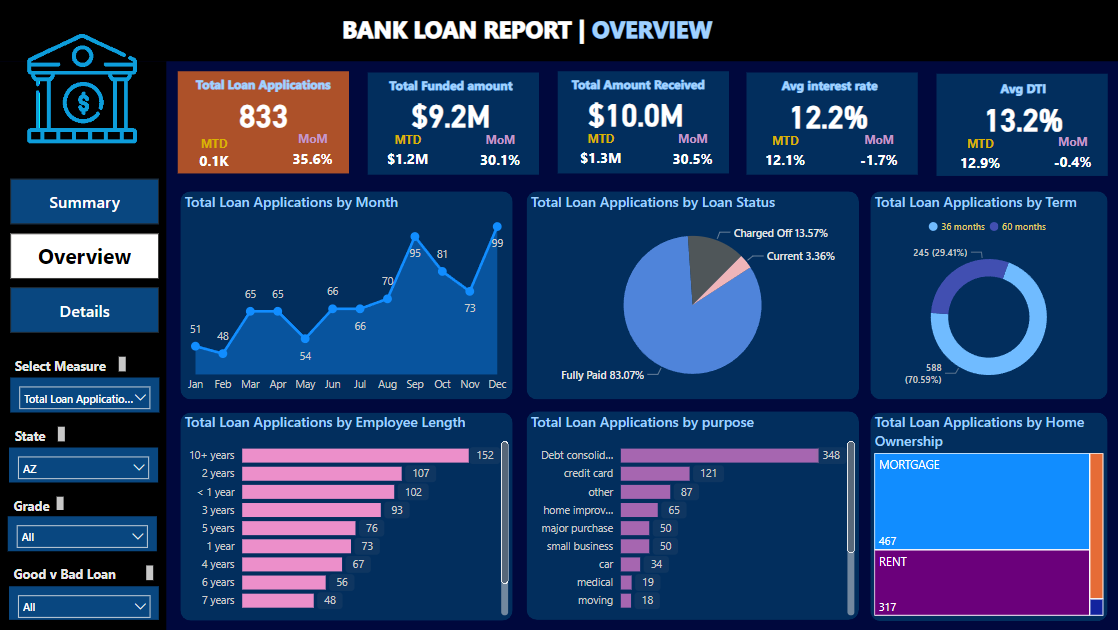

Layout of this report page (visuals, bound fields, positions):
{"tool":"powerbi","page":{"name":"Overview","canvas":[1280,720],"ordinal":1},"visuals":[{"type":"shape","box":[0,0,1280,70],"z":0},{"type":"shape","box":[0,70,191.4,650],"z":1000},{"type":"textbox","box":[387.1,10,528.6,51.4],"z":2000},{"type":"shape","box":[204.3,81.4,195.7,117.1],"z":3000},{"type":"card","fields":{"Values":["financial_loan.Total Loan Applications"]},"box":[244.3,97.1,117.1,65.7],"z":4000},{"type":"textbox","box":[215.7,81.4,172.9,30],"z":5000},{"type":"card","title":"MTD","fields":{"Values":["financial_loan.MTD Loan Applications"]},"box":[215.7,154.3,60,45.7],"z":6000},{"type":"card","title":"MoM","fields":{"Values":["financial_loan.MoM Loan Applications"]},"box":[328.6,148.6,60,51.4],"z":7000},{"type":"shape","box":[421.1,82.3,195.7,117.1],"z":8000},{"type":"card","fields":{"Values":["financial_loan.Total Funded Amount"]},"box":[444.3,97.1,144.3,65.7],"z":9000},{"type":"textbox","box":[430.3,82.3,172.9,30],"z":10000},{"type":"card","title":"MTD","fields":{"Values":["financial_loan.MTD Funded Amount"]},"box":[430,150,74.3,50],"z":11000},{"type":"card","title":"MoM","fields":{"Values":["financial_loan.MoM Total Funded Amount"]},"box":[543.1,149.4,60,51.4],"z":12000},{"type":"shape","box":[1071.7,84.3,195.7,117.1],"z":13000},{"type":"card","fields":{"Values":["financial_loan.Avg DTI"]},"box":[1098.3,100.9,144.3,65.7],"z":14000},{"type":"textbox","box":[1084.3,86,172.9,30],"z":15000},{"type":"card","title":"MTD","fields":{"Values":["financial_loan.MTD Avg DTI"]},"box":[1084,153.7,74.3,50],"z":16000},{"type":"card","title":"MoM","fields":{"Values":["financial_loan.MoM Avg DIT"]},"box":[1197.1,153.1,60,51.4],"z":17000},{"type":"shape","box":[638,80.9,195.7,117.1],"z":18000},{"type":"card","fields":{"Values":["financial_loan.Total Amount Received"]},"box":[658.6,95.7,138.6,65.7],"z":19000},{"type":"textbox","box":[644.9,80.9,172.9,30],"z":20000},{"type":"card","title":"MTD","fields":{"Values":["financial_loan.MTD Amount Received"]},"box":[644.3,148.6,87.1,50],"z":21000},{"type":"card","title":"MoM","fields":{"Values":["financial_loan.MoM Amount Received"]},"box":[757.1,148.6,71.4,51.4],"z":22000},{"type":"shape","box":[854.9,83.4,195.7,117.1],"z":23000},{"type":"card","fields":{"Values":["financial_loan.Avg Interest Rate"]},"box":[876.3,98.3,144.3,65.7],"z":24000},{"type":"textbox","box":[862.3,83.4,172.9,30],"z":25000},{"type":"card","title":"MTD","fields":{"Values":["financial_loan.MTD Avg Int Rate"]},"box":[862,151.1,74.3,50],"z":26000},{"type":"card","title":"MoM","fields":{"Values":["financial_loan.MoM Avg Int Rate"]},"box":[975.1,150.6,60,51.4],"z":27000},{"type":"shape","box":[207.1,218.6,380,238],"z":28000},{"type":"slicer","fields":{"Values":["financial_loan.address_state"]},"box":[11.4,511.4,170,40],"z":29000},{"type":"textbox","box":[12.9,482.9,67.1,28.6],"z":30000},{"type":"slicer","fields":{"Values":["financial_loan.grade"]},"box":[10,590,170,40],"z":31000},{"type":"textbox","box":[11.4,562.9,67.1,27.1],"z":32000},{"type":"textbox","box":[11.4,641.4,170,28.6],"z":33000},{"type":"slicer","fields":{"Values":["financial_loan.Good v Bad Loan"]},"box":[11.4,670,171.4,38.6],"z":34000},{"type":"areaChart","fields":{"Y":["financial_loan.Total Loan Applications"],"Category":["Date Table.Month"]},"box":[207.1,218.6,380,238.6],"z":35000},{"type":"slicer","fields":{"Values":["Select Measures.Select Measures"]},"box":[12.9,431.4,170,40],"z":36000},{"type":"textbox","box":[12.9,402.9,137.1,28.6],"z":37000},{"type":"shape","box":[602.9,218.6,380,238],"z":38000},{"type":"shape","box":[995.7,218.6,271.4,238],"z":39000},{"type":"donutChart","fields":{"Y":["financial_loan.Total Loan Applications"],"Category":["financial_loan.term"]},"box":[995.7,218.6,271.4,238.6],"z":40000},{"type":"shape","box":[207.1,471.4,380,238],"z":41000},{"type":"barChart","fields":{"Y":["financial_loan.Total Loan Applications"],"Category":["financial_loan.emp_length"]},"box":[207.1,470,380,238.6],"z":42000},{"type":"shape","box":[602.9,470,380,238.6],"z":43000},{"type":"barChart","fields":{"Y":["financial_loan.Total Loan Applications"],"Category":["financial_loan.purpose"]},"box":[602.9,470,380,238.6],"z":44000},{"type":"shape","box":[995.7,471.4,271.4,238.6],"z":45000},{"type":"treemap","fields":{"Values":["financial_loan.Total Loan Applications"],"Group":["financial_loan.home_ownership"]},"box":[995.7,470,271.4,238.6],"z":46000},{"type":"pageNavigator","box":[12.9,204.3,170,178.6],"z":46001},{"type":"image","box":[25.7,31.4,138.6,140],"z":46002},{"type":"pieChart","fields":{"Y":["financial_loan.Total Loan Applications"],"Category":["financial_loan.loan_status"]},"box":[602.9,218.6,380,238.6],"z":46003}]}

Visuals, with their boxes in screenshot pixels (x1, y1, x2, y2), scaled from the page's 1280x720 canvas onto the 1118x630 screenshot:
shape: x1=0, y1=0, x2=1117, y2=61
shape: x1=0, y1=61, x2=167, y2=629
textbox: x1=338, y1=9, x2=800, y2=54
shape: x1=178, y1=71, x2=349, y2=174
card - financial_loan.Total Loan Applications: x1=213, y1=85, x2=316, y2=142
textbox: x1=188, y1=71, x2=339, y2=97
"MTD" card: x1=188, y1=135, x2=241, y2=175
"MoM" card: x1=287, y1=130, x2=339, y2=175
shape: x1=368, y1=72, x2=539, y2=174
card - financial_loan.Total Funded Amount: x1=388, y1=85, x2=514, y2=142
textbox: x1=376, y1=72, x2=527, y2=98
"MTD" card: x1=376, y1=131, x2=440, y2=175
"MoM" card: x1=474, y1=131, x2=527, y2=176
shape: x1=936, y1=74, x2=1107, y2=176
card - financial_loan.Avg DTI: x1=959, y1=88, x2=1085, y2=146
textbox: x1=947, y1=75, x2=1098, y2=102
"MTD" card: x1=947, y1=134, x2=1012, y2=178
"MoM" card: x1=1046, y1=134, x2=1098, y2=179
shape: x1=557, y1=71, x2=728, y2=173
card - financial_loan.Total Amount Received: x1=575, y1=84, x2=696, y2=141
textbox: x1=563, y1=71, x2=714, y2=97
"MTD" card: x1=563, y1=130, x2=639, y2=174
"MoM" card: x1=661, y1=130, x2=724, y2=175
shape: x1=747, y1=73, x2=918, y2=175
card - financial_loan.Avg Interest Rate: x1=765, y1=86, x2=891, y2=144
textbox: x1=753, y1=73, x2=904, y2=99
"MTD" card: x1=753, y1=132, x2=818, y2=176
"MoM" card: x1=852, y1=132, x2=904, y2=177
shape: x1=181, y1=191, x2=513, y2=400
slicer - financial_loan.address_state: x1=10, y1=447, x2=158, y2=482
textbox: x1=11, y1=423, x2=70, y2=448
slicer - financial_loan.grade: x1=9, y1=516, x2=157, y2=551
textbox: x1=10, y1=493, x2=69, y2=516
textbox: x1=10, y1=561, x2=158, y2=586
slicer - financial_loan.Good v Bad Loan: x1=10, y1=586, x2=160, y2=620
areaChart - financial_loan.Total Loan Applications x Date Table.Month: x1=181, y1=191, x2=513, y2=400
slicer - Select Measures.Select Measures: x1=11, y1=377, x2=160, y2=412
textbox: x1=11, y1=353, x2=131, y2=378
shape: x1=527, y1=191, x2=859, y2=400
shape: x1=870, y1=191, x2=1107, y2=400
donutChart - financial_loan.Total Loan Applications x financial_loan.term: x1=870, y1=191, x2=1107, y2=400
shape: x1=181, y1=412, x2=513, y2=621
barChart - financial_loan.Total Loan Applications x financial_loan.emp_length: x1=181, y1=411, x2=513, y2=620
shape: x1=527, y1=411, x2=859, y2=620
barChart - financial_loan.Total Loan Applications x financial_loan.purpose: x1=527, y1=411, x2=859, y2=620
shape: x1=870, y1=412, x2=1107, y2=621
treemap - financial_loan.Total Loan Applications x financial_loan.home_ownership: x1=870, y1=411, x2=1107, y2=620
pageNavigator: x1=11, y1=179, x2=160, y2=335
image: x1=22, y1=27, x2=144, y2=150
pieChart - financial_loan.Total Loan Applications x financial_loan.loan_status: x1=527, y1=191, x2=859, y2=400
